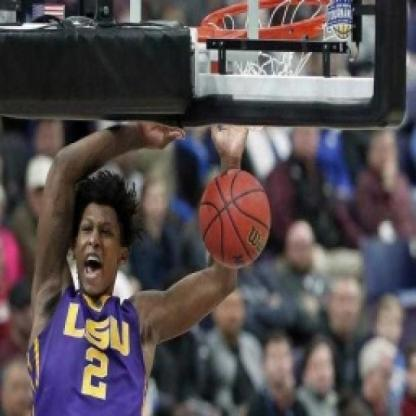basketball: (196, 165, 276, 271)
